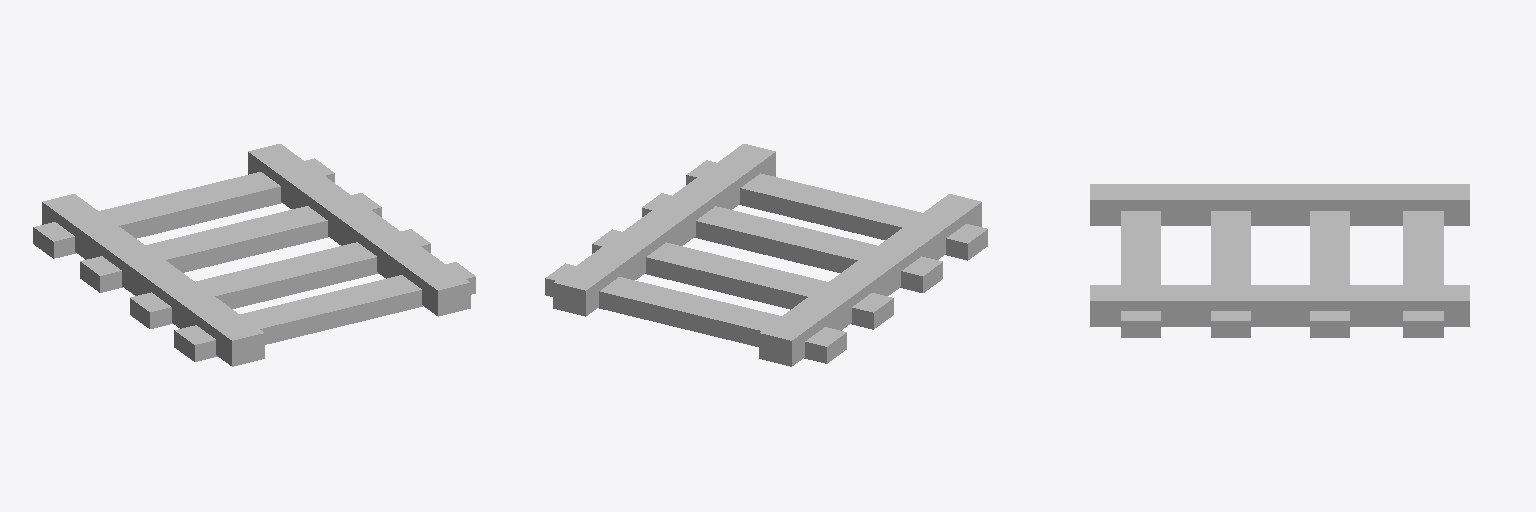
File: small_straight.obj
The picture shows the model from 3 angles: view 1: azimuth 30°, elevation 25°; view 2: azimuth 150°, elevation 25°; view 3: azimuth 270°, elevation 25°; orthographic projection.
Parts seen in each view (by area): view 1: Cube; view 2: Cube; view 3: Cube.
Part boxes in pixels (bbox=[...]): Cube: bbox=[33, 144, 475, 366]; Cube: bbox=[545, 144, 987, 366]; Cube: bbox=[1090, 184, 1469, 337].
Bounding box in the file's own units: 1.71 × 0.1595 × 2.